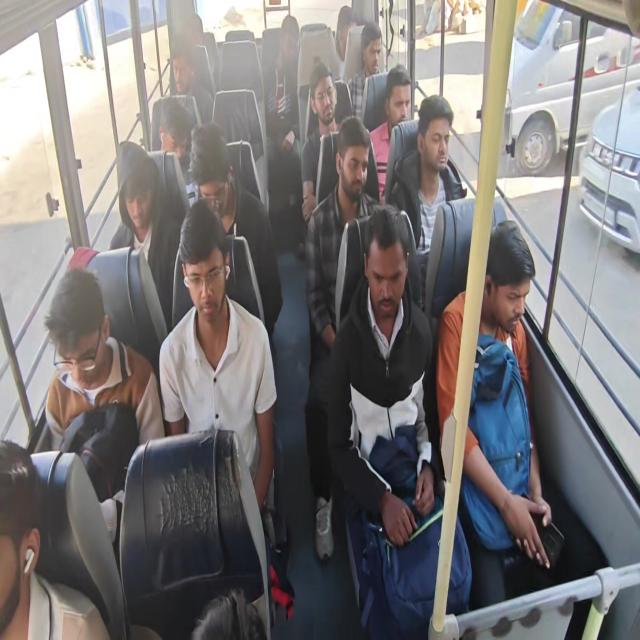person: (38, 8, 562, 636), (326, 203, 472, 638), (435, 219, 553, 606), (158, 200, 278, 544), (304, 115, 382, 562), (43, 266, 165, 451), (0, 439, 111, 639), (187, 122, 283, 343), (388, 94, 466, 300), (108, 140, 180, 332), (300, 62, 342, 226), (367, 65, 412, 202), (264, 14, 300, 153), (168, 34, 214, 125), (347, 21, 382, 121), (158, 98, 194, 184), (334, 5, 356, 61)
